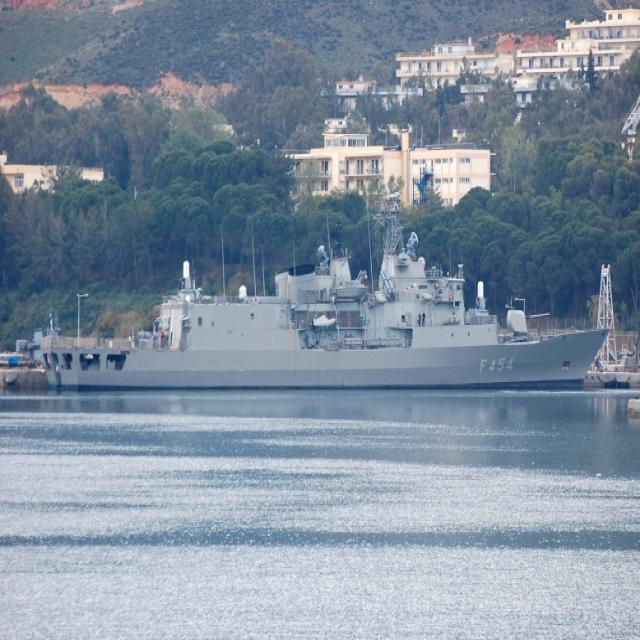Fragata: (36, 165, 615, 399)
